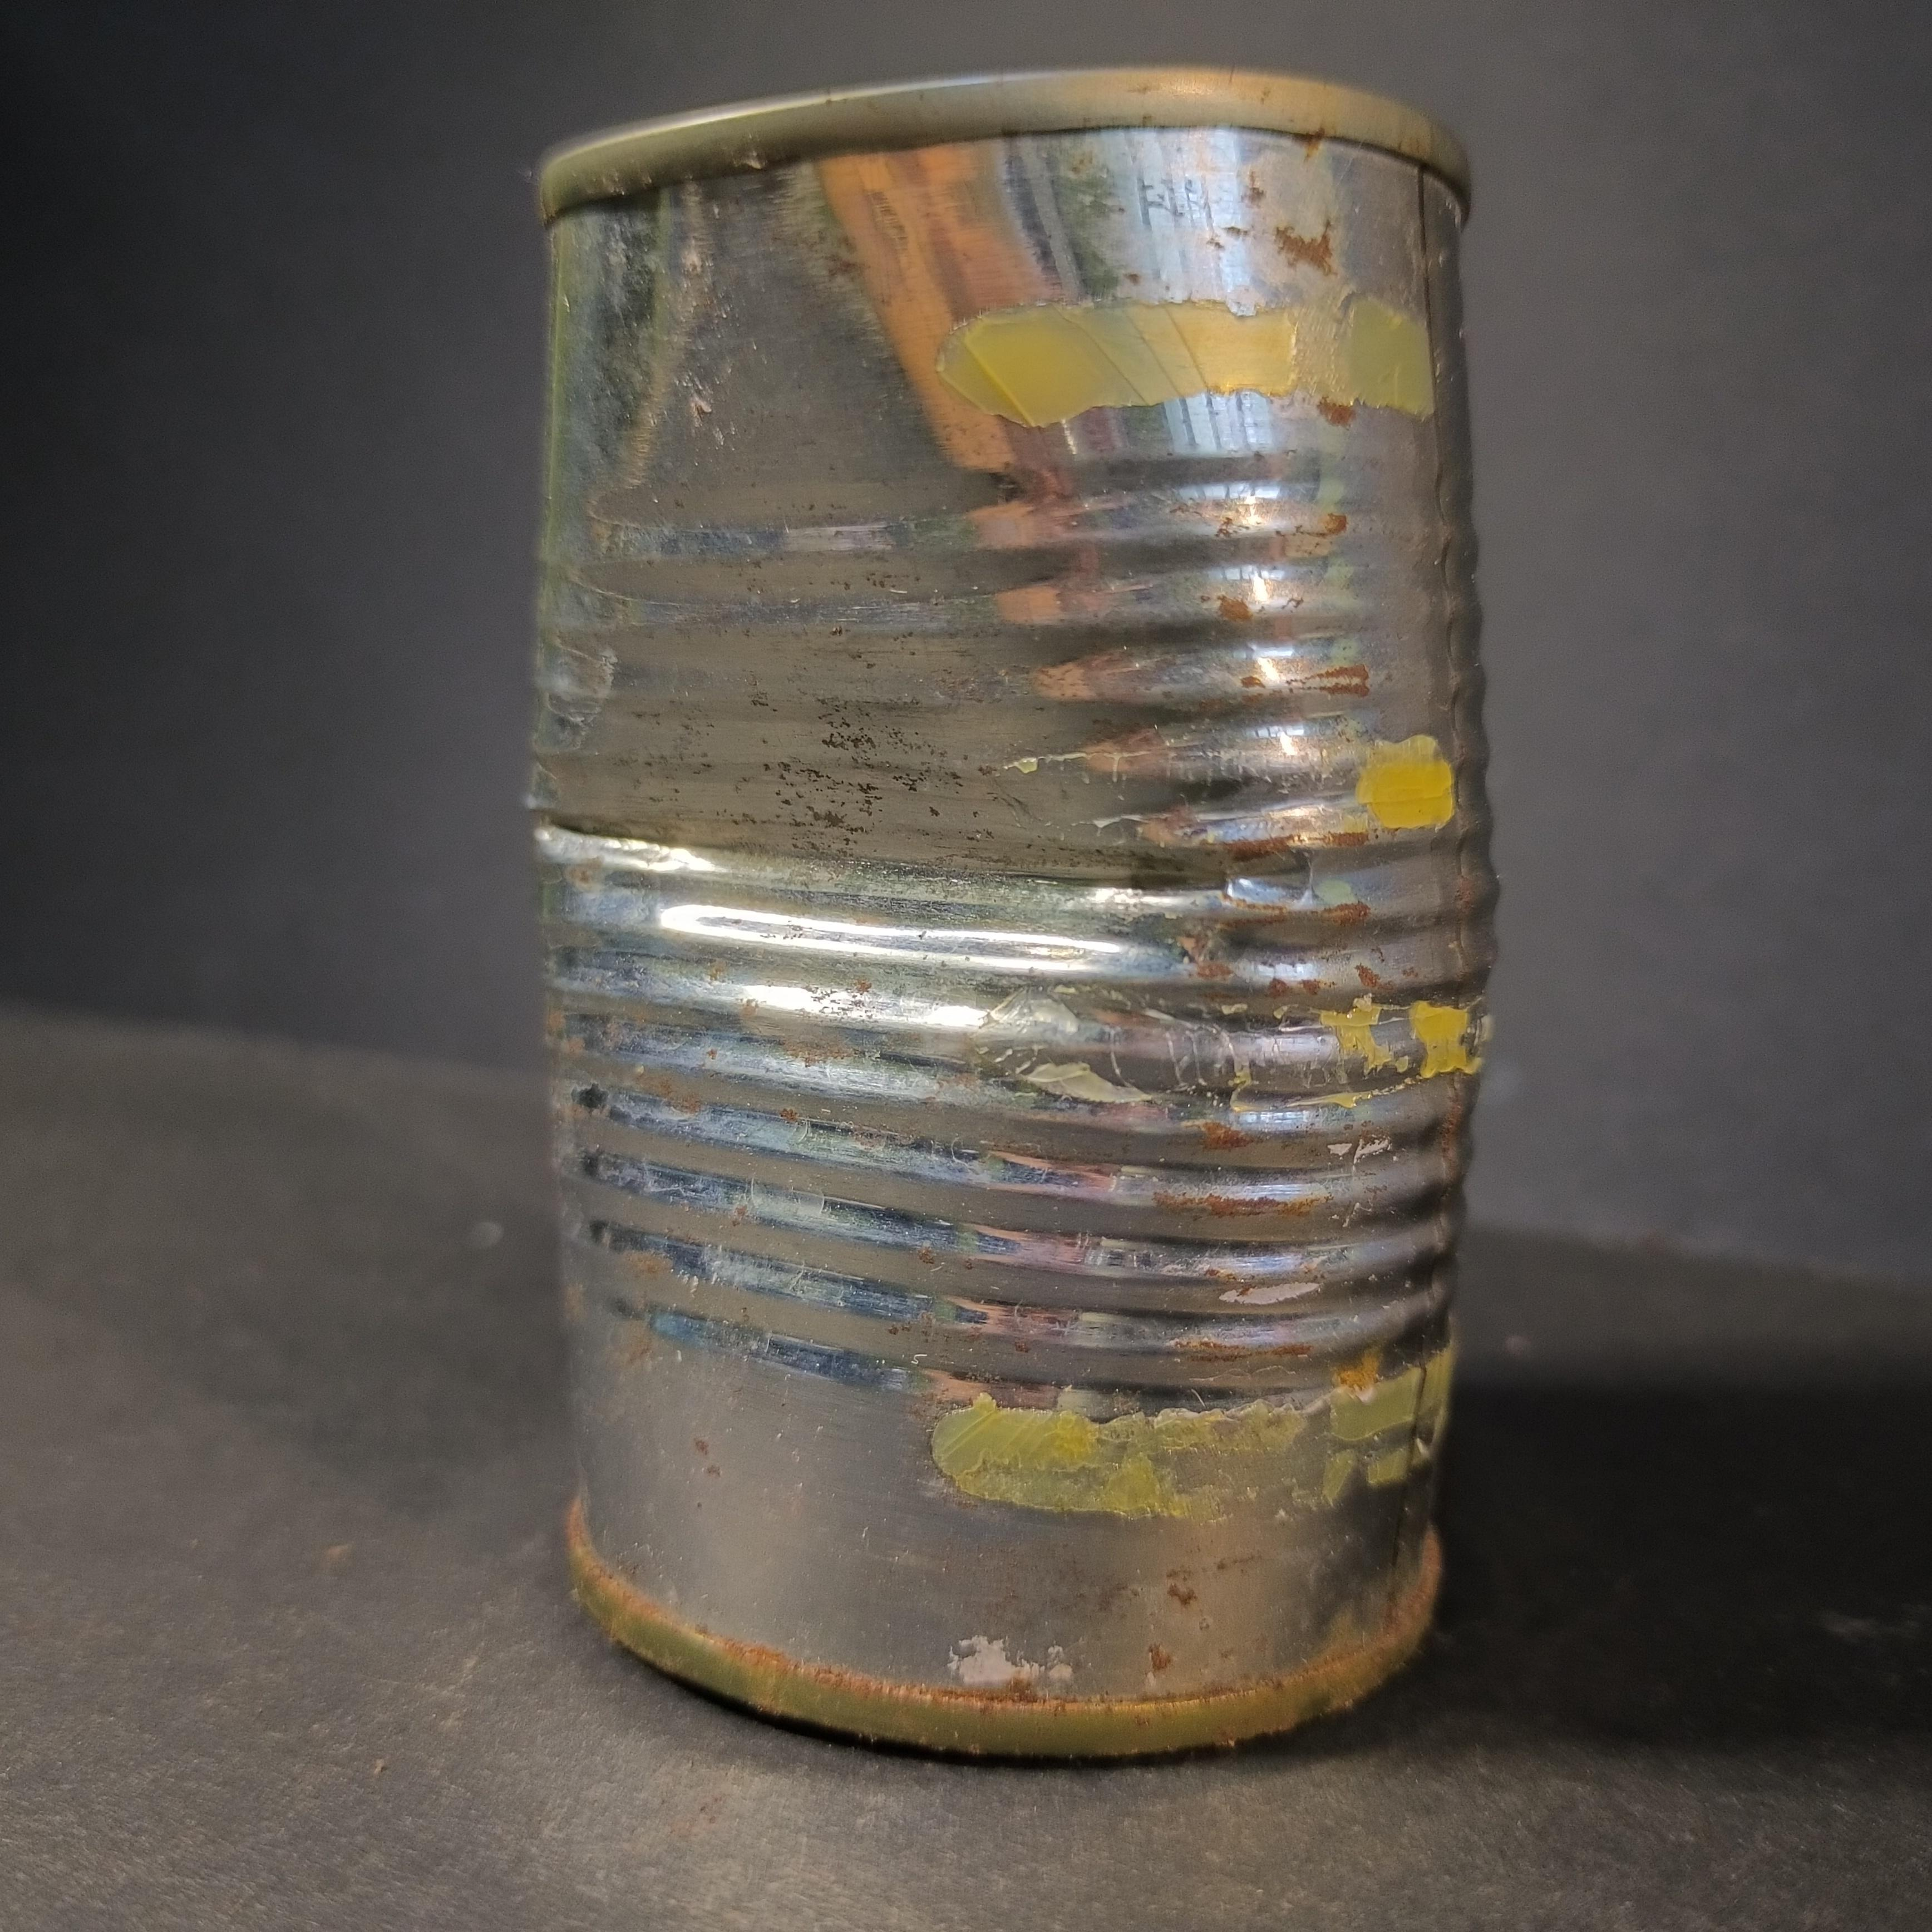Dented: (458, 16, 1520, 1813)
